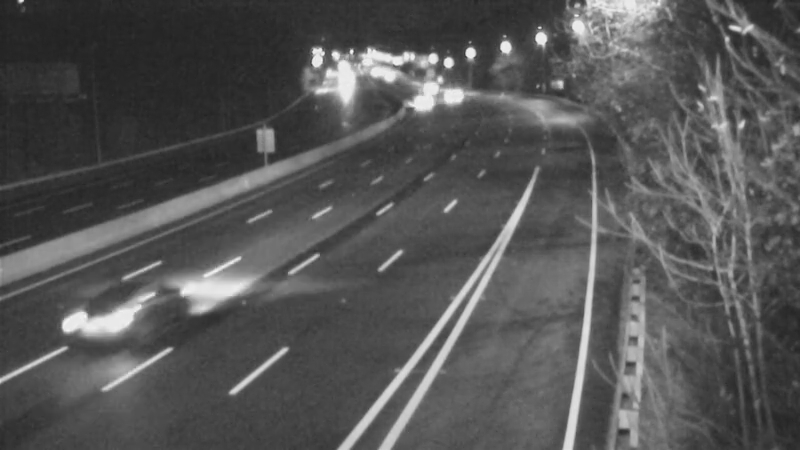vehicle: (48, 270, 158, 380), (361, 52, 411, 102), (398, 61, 448, 111), (429, 72, 479, 122), (393, 77, 443, 127), (320, 61, 370, 111)
